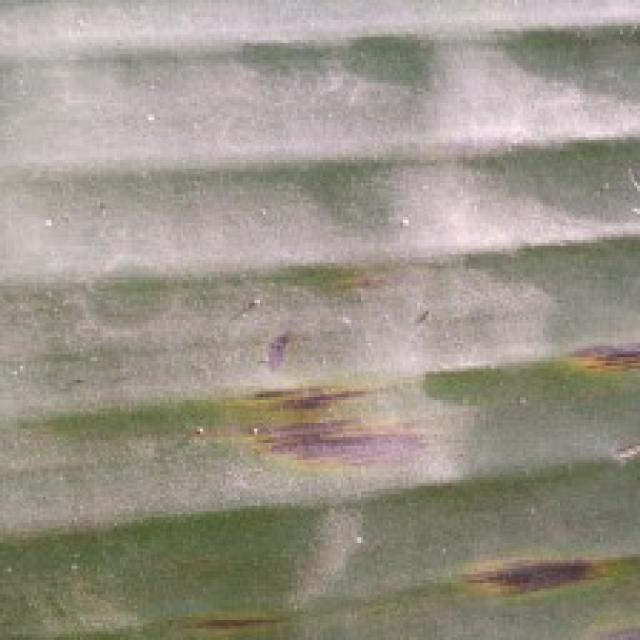Early_leaf_spot: (217, 310, 442, 475), (460, 540, 628, 620), (553, 313, 640, 376), (181, 599, 284, 640)
